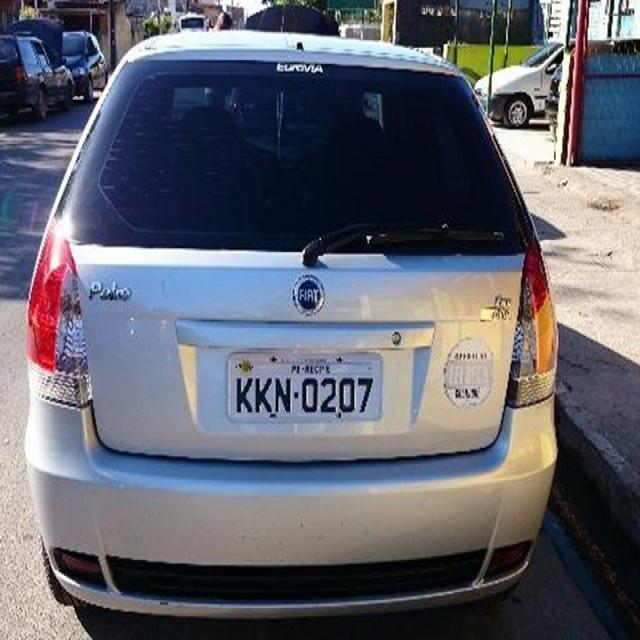Placa: (223, 348, 388, 425)
